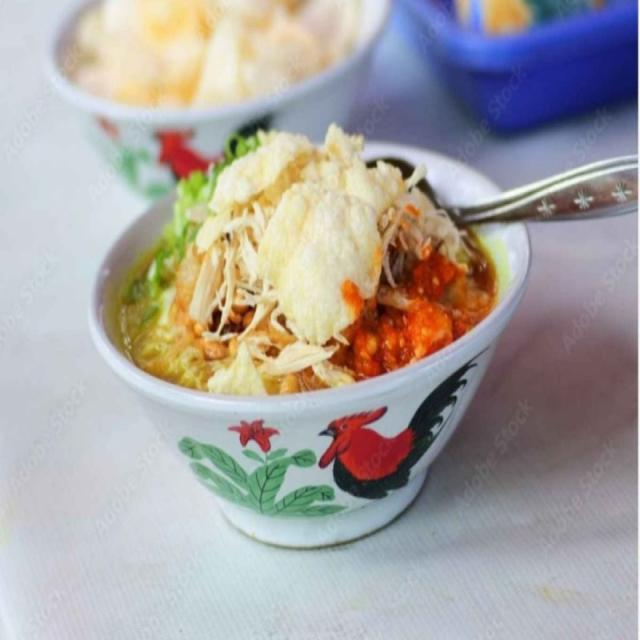bubur ayam: (122, 124, 499, 396)
mangkuk: (89, 125, 532, 550), (45, 0, 392, 202), (400, 0, 637, 134)
sambal: (344, 242, 476, 380)
